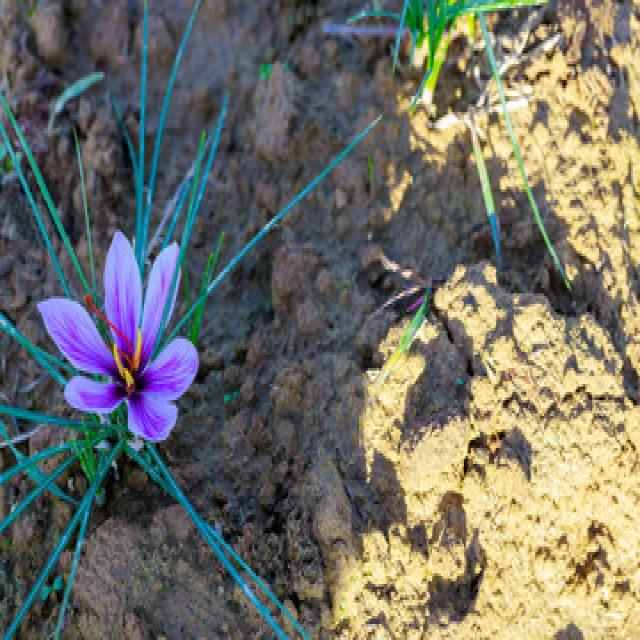saffron open: (41, 232, 198, 439)
